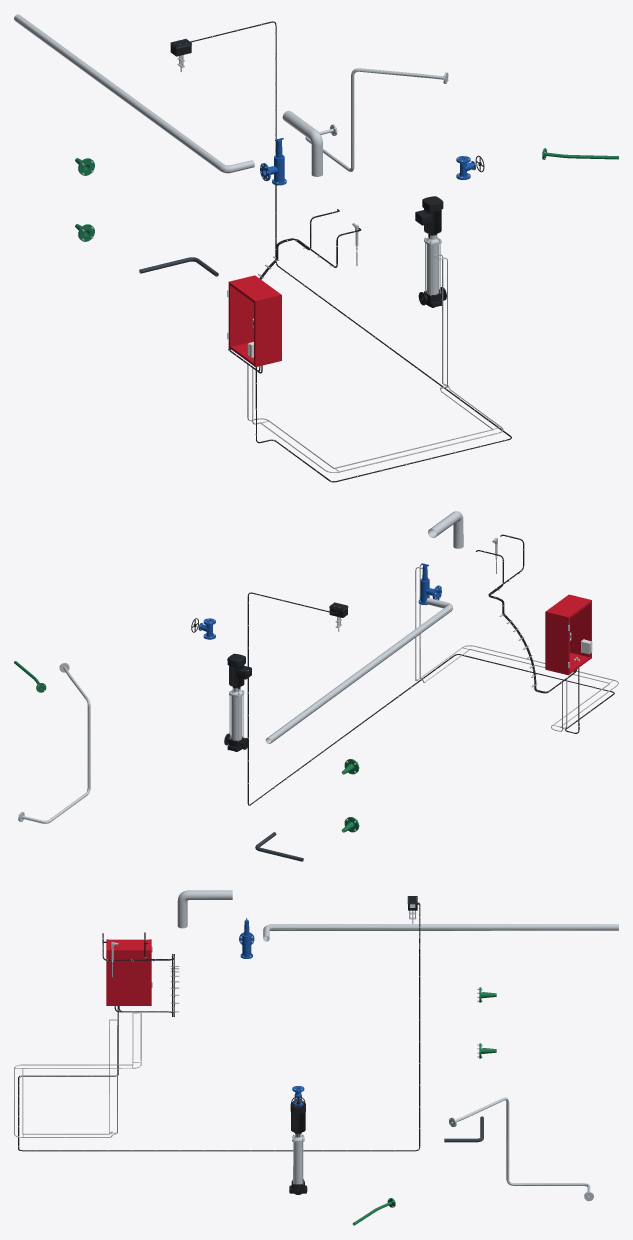
File: s4000-6-DgYcvKfh.glb
The picture shows the model from 3 angles, top to bottom: view 1: azimuth 30°, elevation 25°; view 2: azimuth 150°, elevation 25°; view 3: azimuth 270°, elevation 25°; orthographic projection. The views are drawn at different scales.
Parts seen in each view (by area): view 1: control_cabinet / control_cabinet_0.npz, safety_vent_2 / steel, cables / zinc, mod_direct_drive_cable / black, trap_gap_to_bdv / steel, steam_rise / steel, pump_2 CAD solid 15, safety_1 / blue, pump_2 CAD solid 2; view 2: control_cabinet / control_cabinet_0.npz, safety_vent_2 / steel, mod_direct_drive_cable / black, cables / zinc, trap_gap_to_bdv / steel, steam_rise / steel, pump_2 CAD solid 15, safety_1 / blue; view 3: control_cabinet / control_cabinet_0.npz, safety_vent_2 / steel, mod_direct_drive_cable / black, cables / zinc, trap_gap_to_bdv / steel, steam_rise / steel.
Boxes of the visible parts, box(x1,y1,x2,y2) form: control_cabinet / control_cabinet_0.npz: box(227, 275, 281, 367); safety_vent_2 / steel: box(14, 14, 254, 173); cables / zinc: box(247, 254, 503, 472); mod_direct_drive_cable / black: box(190, 21, 511, 482); trap_gap_to_bdv / steel: box(305, 68, 448, 171); steam_rise / steel: box(282, 110, 322, 176); pump_2 CAD solid 15: box(415, 196, 443, 234); safety_1 / blue: box(260, 138, 286, 185); pump_2 CAD solid 2: box(426, 244, 438, 294); control_cabinet / control_cabinet_0.npz: box(545, 594, 591, 675); safety_vent_2 / steel: box(265, 598, 452, 743); mod_direct_drive_cable / black: box(247, 592, 614, 805); cables / zinc: box(415, 564, 618, 731); trap_gap_to_bdv / steel: box(18, 662, 90, 823); steam_rise / steel: box(428, 511, 463, 548); pump_2 CAD solid 15: box(227, 653, 251, 687); safety_1 / blue: box(418, 563, 441, 604); control_cabinet / control_cabinet_0.npz: box(106, 939, 152, 1005); safety_vent_2 / steel: box(263, 924, 618, 941); mod_direct_drive_cable / black: box(18, 903, 420, 1151); cables / zinc: box(14, 1012, 141, 1137); trap_gap_to_bdv / steel: box(449, 1097, 593, 1201); steam_rise / steel: box(177, 890, 232, 928).
Bounding box in the file's own units: 5.86 × 2.95 × 7.07.
